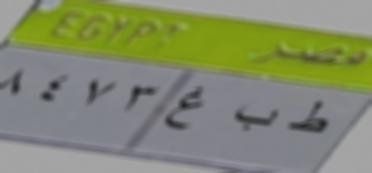3: (122, 70, 160, 112)
4: (37, 66, 69, 112)
7: (82, 72, 116, 107)
8: (0, 64, 24, 101)
Taa: (288, 89, 327, 146)
baa: (228, 98, 277, 139)
ghayn: (164, 81, 207, 140)
